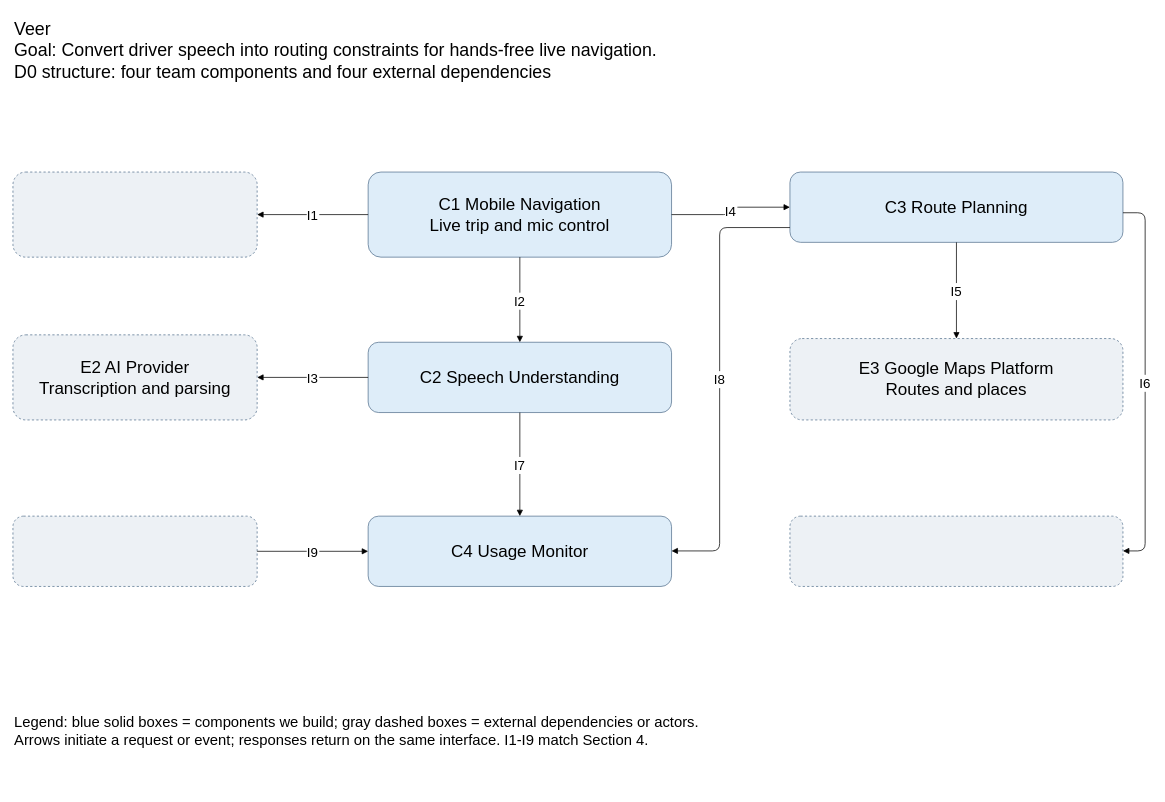
Image size: 1165x802. Some labels were removed from this diagram. Each missing label, with the box of its shape:
Developer External actor: (12, 515, 257, 586)
E1 Phone Platform Mic, location, speaker: (12, 171, 257, 257)
E4 Weather Provider: (789, 515, 1123, 586)
